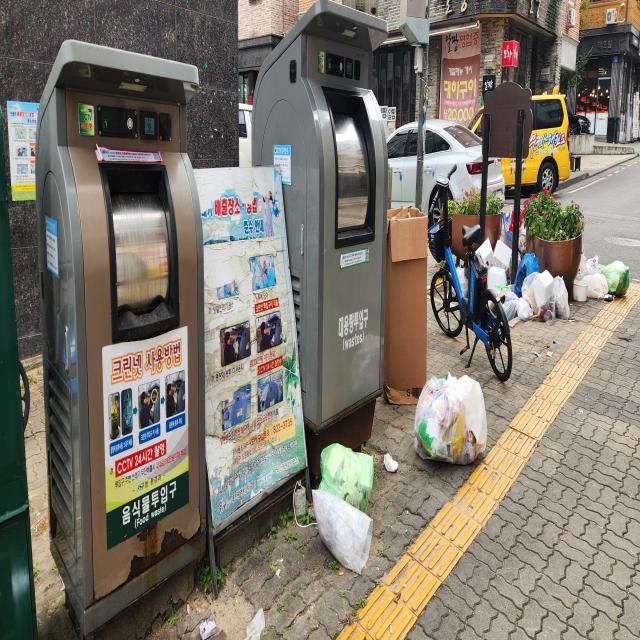CleanNet: (33, 24, 220, 640), (249, 0, 398, 452)
General Waste: (471, 215, 576, 332), (411, 361, 499, 486), (316, 442, 378, 523), (470, 223, 528, 294), (518, 245, 573, 319), (574, 253, 628, 326)
